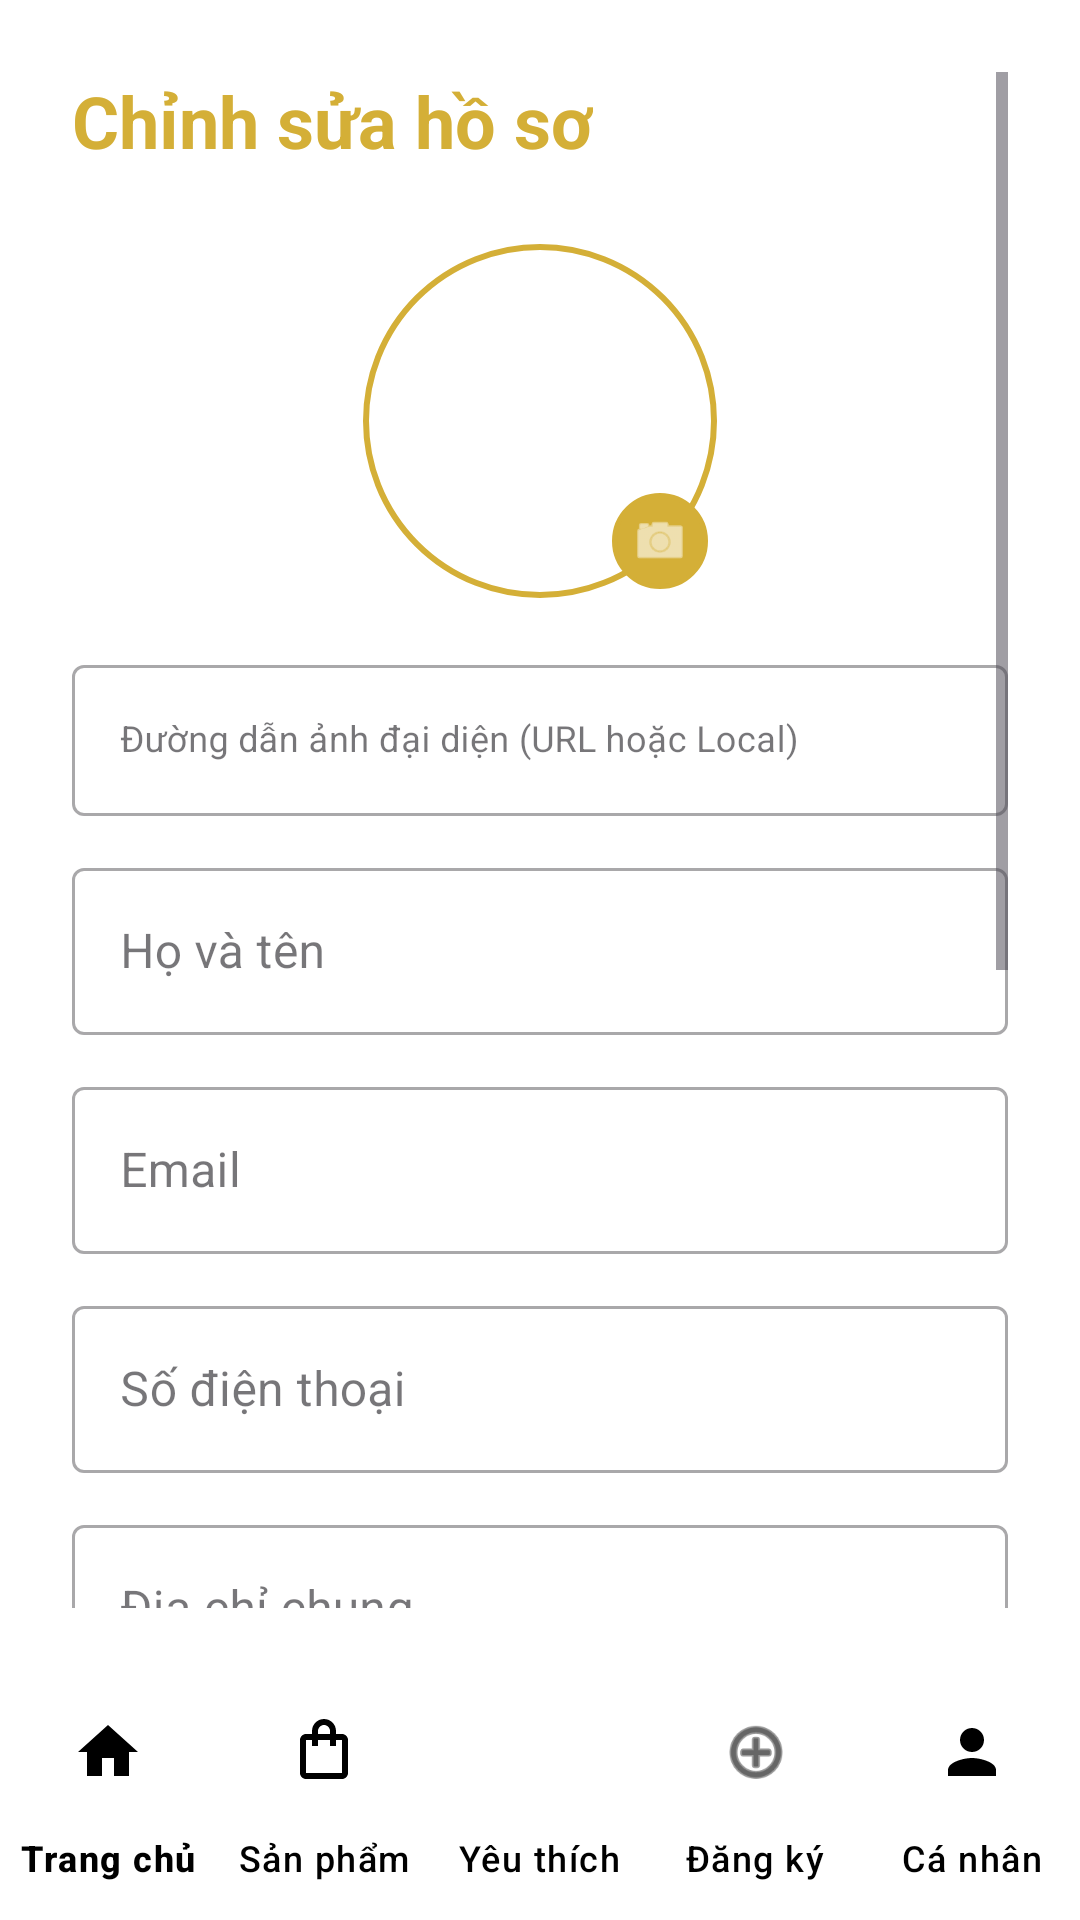

Where icons sit on this 1080x1920 app screen, as bbox=[x1, y1, x2, y2]:
camera: bbox=[612, 493, 708, 589]
